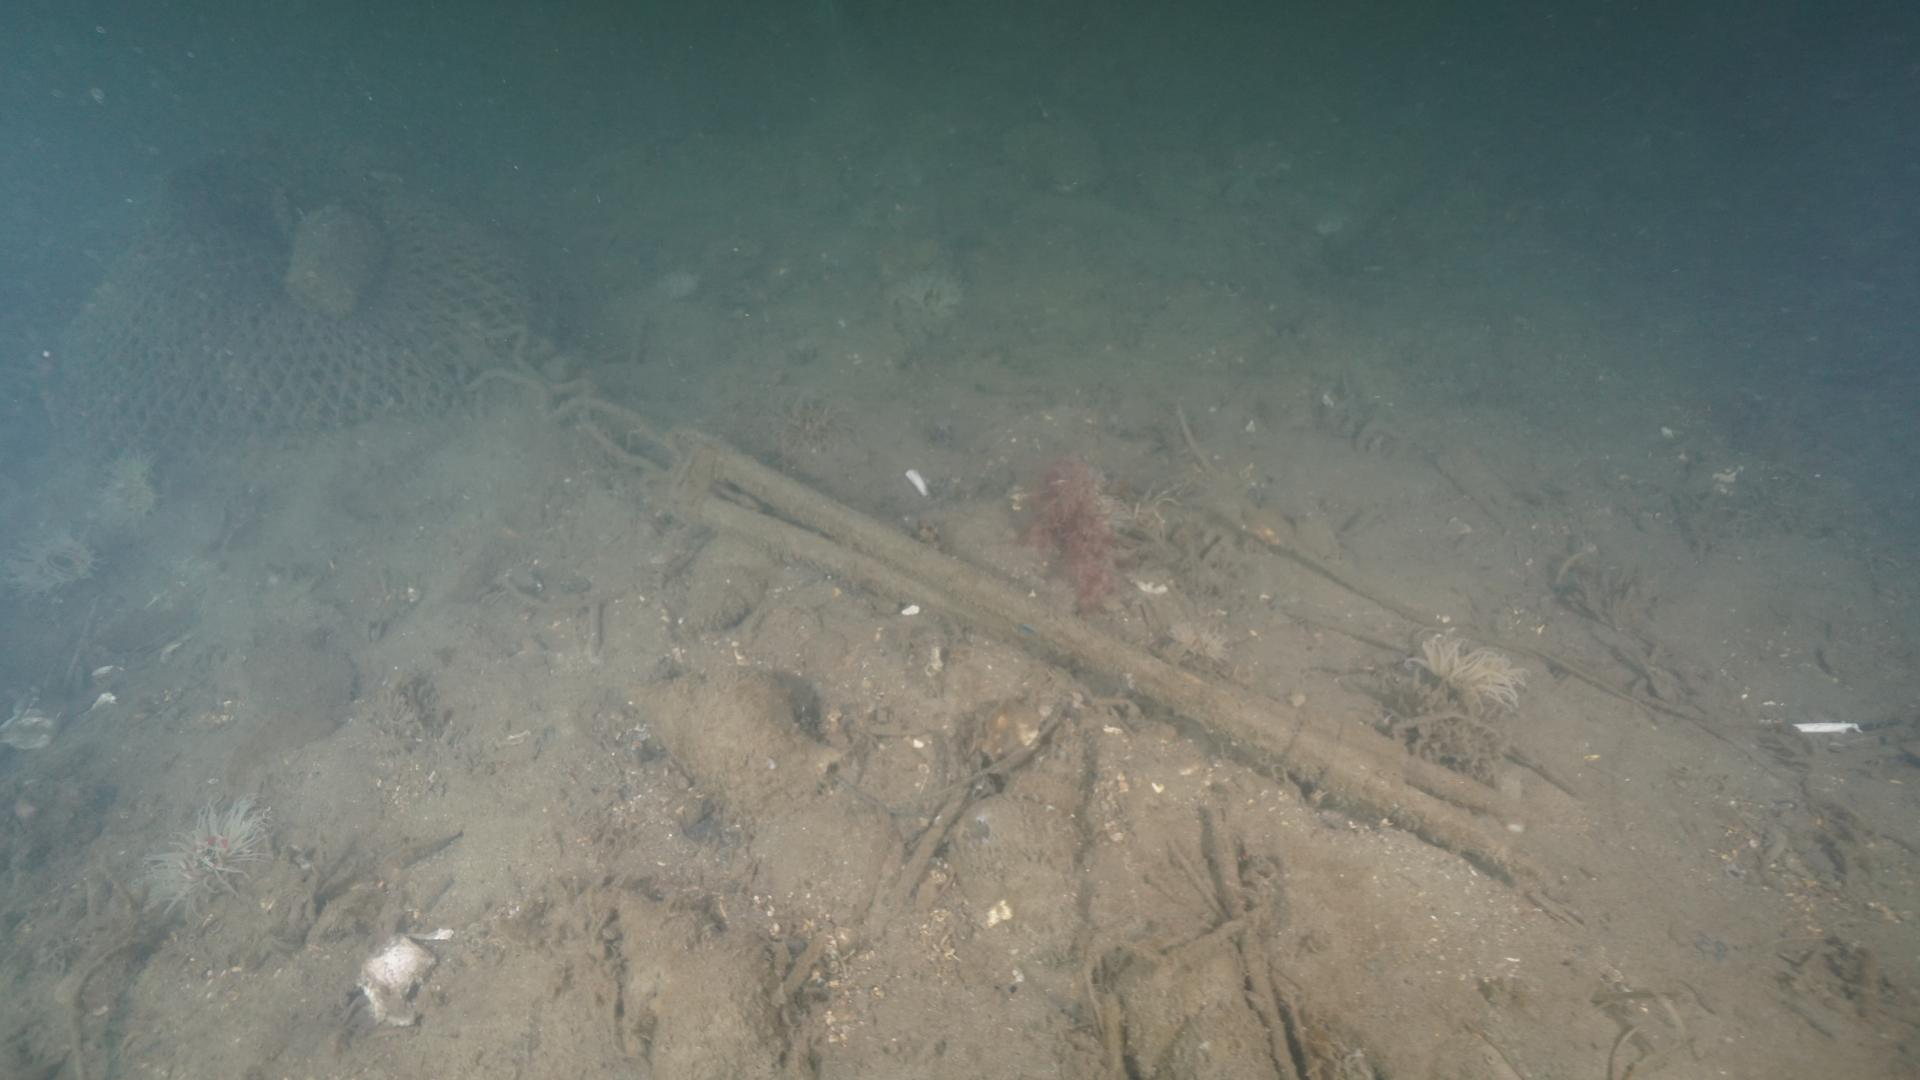wood: (546, 378, 1528, 899)
